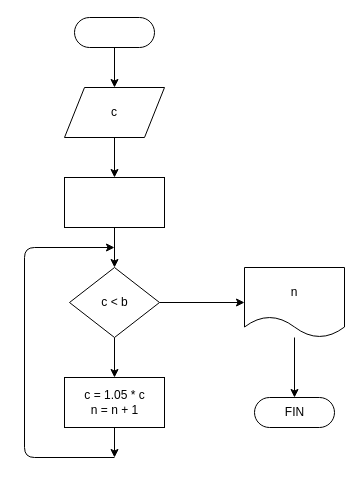
This 362x483 diagram has some shape labels left out. Here are the shapes that lost their labels. From the top down, the centre of each, then its label:
the point at 114,32: INICIO
the point at 114,202: n = 0 b = 2*c
